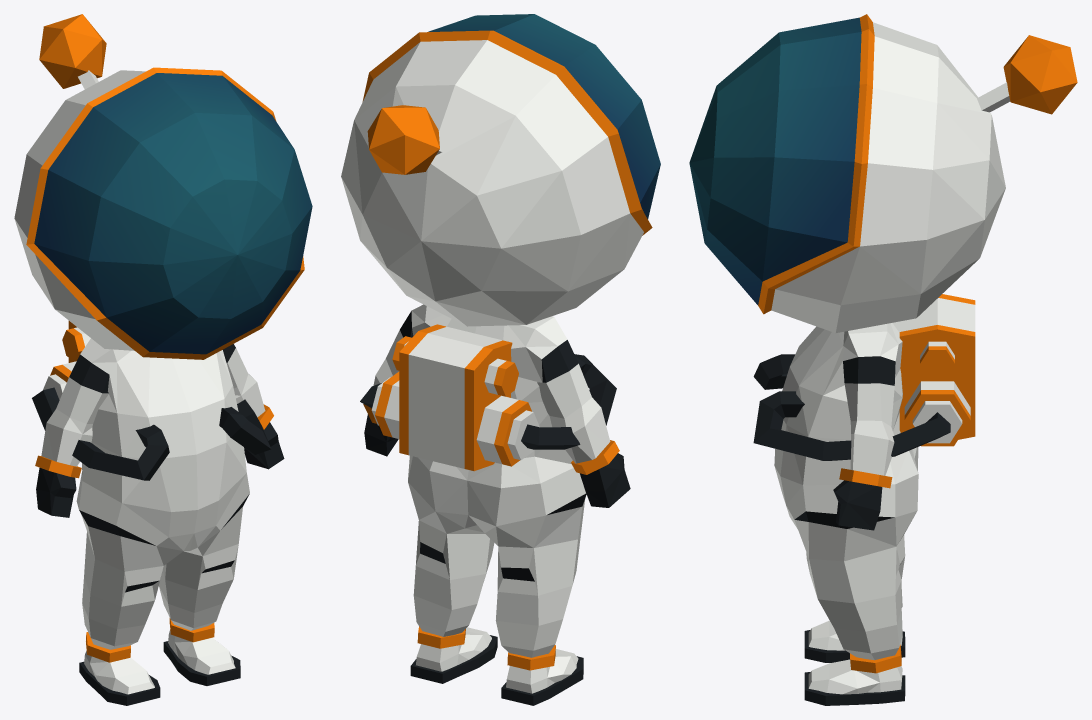
File: spaceSuitA.FBX
3 views of the same model, side by side, from view 1: azimuth 30°, elevation 25°; view 2: azimuth 150°, elevation 25°; view 3: azimuth 270°, elevation 25° (orthographic). The views are drawn at different scales.
Visible parts, largest first — view 1: spaceSuitA; view 2: spaceSuitA; view 3: spaceSuitA.
Boxes of the visible parts, x1,y1,x2,y2 form: spaceSuitA: [14, 14, 312, 705]; spaceSuitA: [341, 14, 660, 705]; spaceSuitA: [689, 14, 1077, 705].
Size of the model in its own units: 6.51 by 14 by 7.66.
